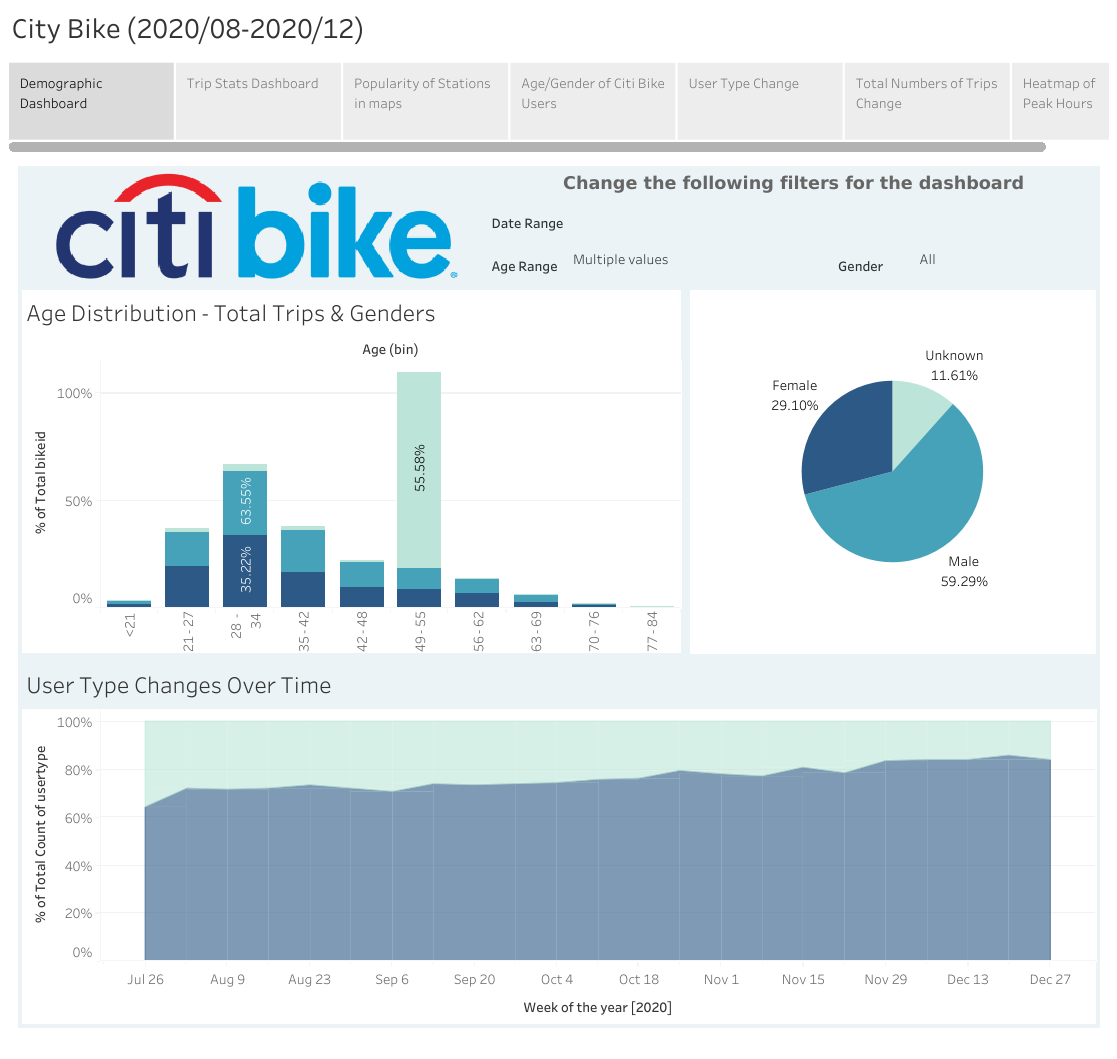

This screenshot's page, from the dashboard's own definition file:
{"tool":"tableau","page":{"name":"Demographic","canvas":[1000,800],"ordinal":0},"visuals":[{"type":"worksheet","box":[0,0,1000,800]},{"type":"worksheet","param":"C:/Users/ndeng/Desktop/GitHub/Tableau-Challenge/NYC/citibikelogo.png","box":[8,8,427,109]},{"type":"worksheet","box":[435,8,557,30]},{"type":"worksheet","title":"Age Distribution","mark":"Automatic","cols":["Age (bin)"],"param":"[federated.0hue5ww17iiv5p152rjf50vz4pfi].[none:starttime:qk]","box":[435,38,557,41]},{"type":"worksheet","title":"Age Distribution","mark":"Automatic","cols":["Age (bin)"],"param":"[federated.0hue5ww17iiv5p152rjf50vz4pfi].[none:Age (bin):ok]","box":[435,79,315,38]},{"type":"worksheet","title":"Pie-Gender","mark":"Pie","param":"[federated.0hue5ww17iiv5p152rjf50vz4pfi].[none:gender:ok]","box":[750,79,242,38]},{"type":"worksheet","param":"horz","box":[8,117,984,675]},{"type":"worksheet","box":[8,117,984,675]},{"type":"worksheet","title":"Age Distribution","mark":"Automatic","cols":["Age (bin)"],"box":[8,117,607,337.5]},{"type":"worksheet","title":"Pie-Gender","mark":"Pie","box":[615,117,377,337.5]},{"type":"worksheet","title":"Chart-UserType","mark":"Area","cols":["starttime"],"box":[8,454.5,984,337.5]}]}

Visuals, with their boxes on the page's 1000x800 design canvas (x1, y1, x2, y2). These are canvas units, not pixel positions in the 1117x1059 screenshot, which may show the page scaled, cropped or inside an application window:
worksheet: box(0, 0, 1000, 800)
worksheet: box(8, 8, 435, 117)
worksheet: box(435, 8, 992, 38)
"Age Distribution" worksheet: box(435, 38, 992, 79)
"Age Distribution" worksheet: box(435, 79, 750, 117)
"Pie-Gender" worksheet (Pie marks): box(750, 79, 992, 117)
worksheet: box(8, 117, 992, 792)
worksheet: box(8, 117, 992, 792)
"Age Distribution" worksheet: box(8, 117, 615, 454)
"Pie-Gender" worksheet (Pie marks): box(615, 117, 992, 454)
"Chart-UserType" worksheet (Area marks): box(8, 454, 992, 792)
